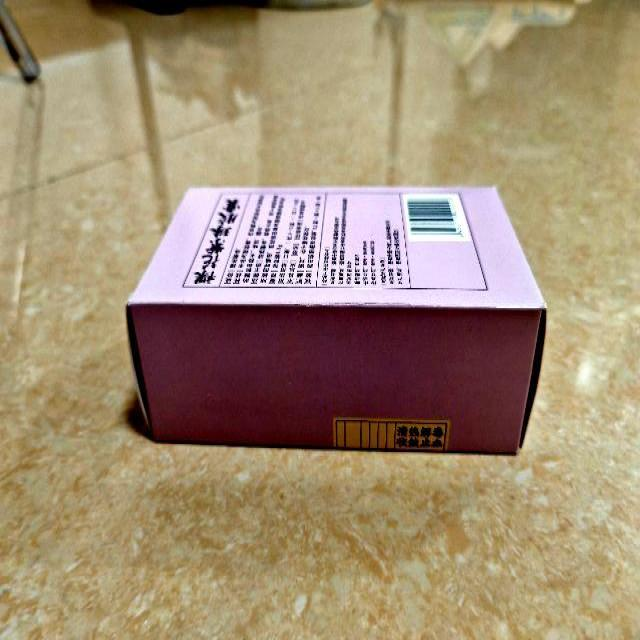box: (127, 182, 547, 453)
